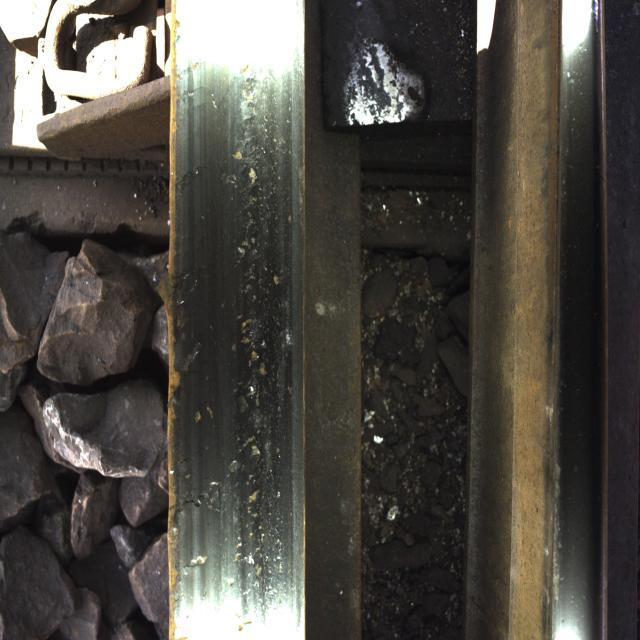scar: (214, 50, 284, 602)
